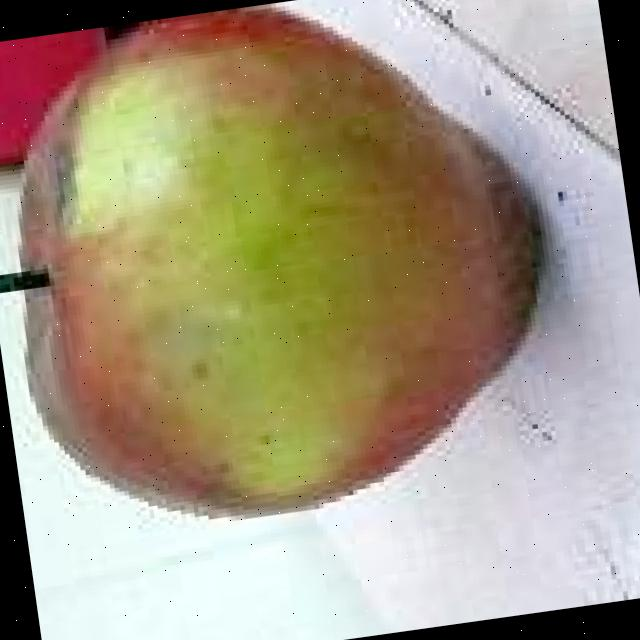Good_Apple 10-21 days: (22, 5, 537, 514)
